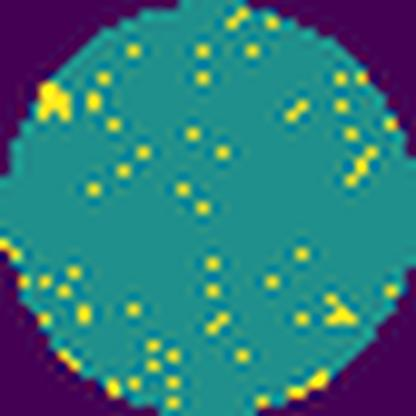Edge-Loc: (26, 78, 78, 127)
